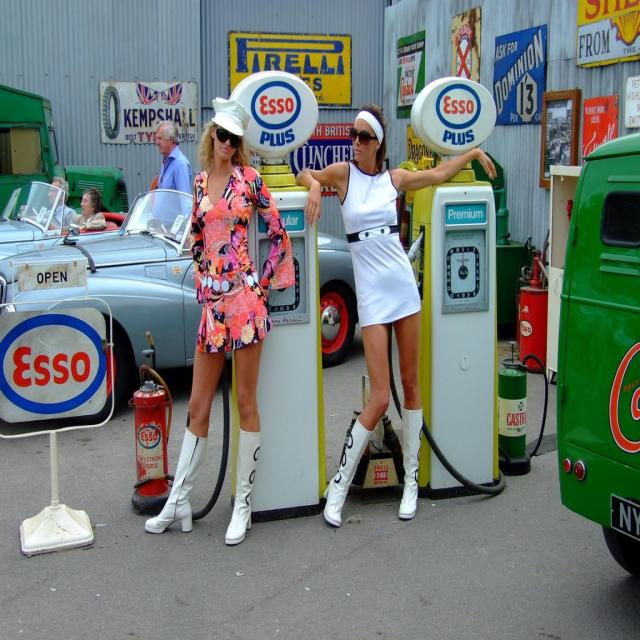esso: (2, 310, 111, 419), (247, 78, 306, 133), (432, 83, 486, 133), (139, 425, 162, 449)
